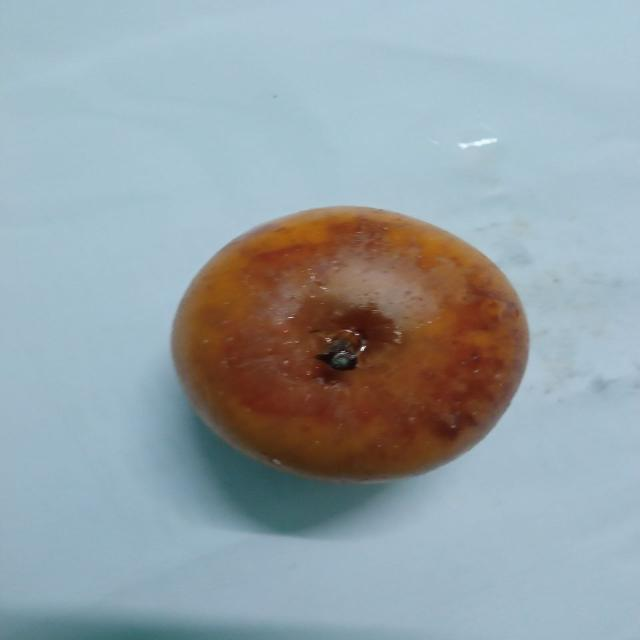rotten_apple: (168, 203, 532, 479)
